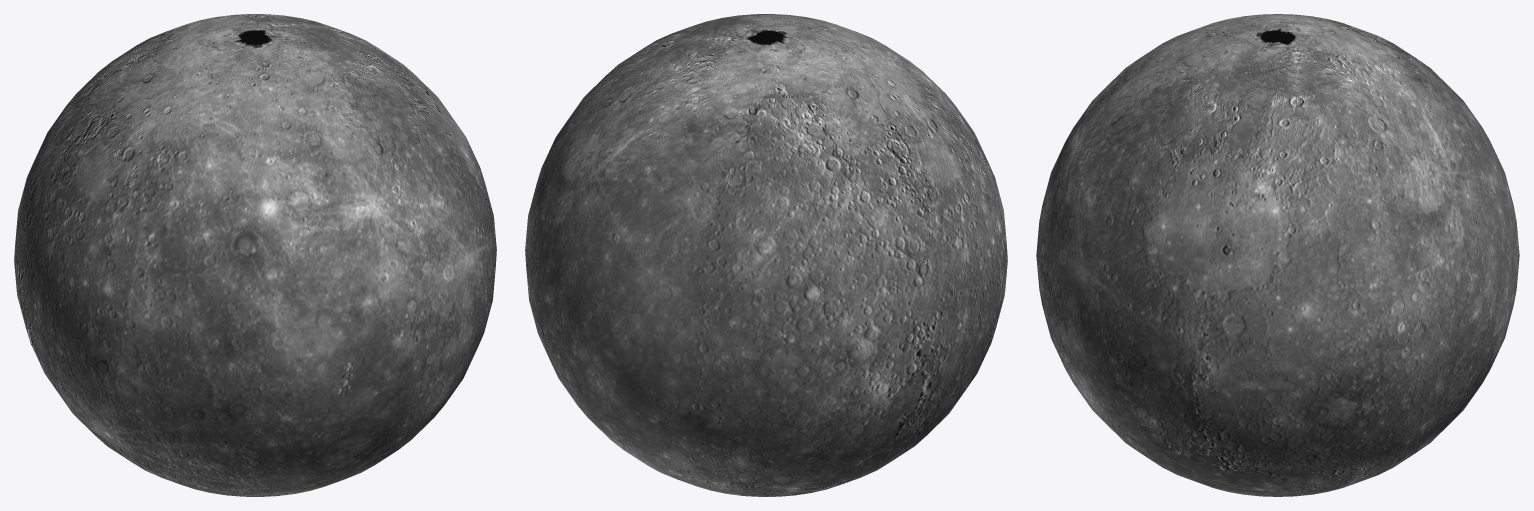
The model's file is mercury.glb.
3 views of the same model, side by side, from view 1: azimuth 30°, elevation 25°; view 2: azimuth 150°, elevation 25°; view 3: azimuth 270°, elevation 25° (orthographic).
Bounding box in the file's own units: 2 × 2 × 2.
Materials: 1 (1 with a texture image).
